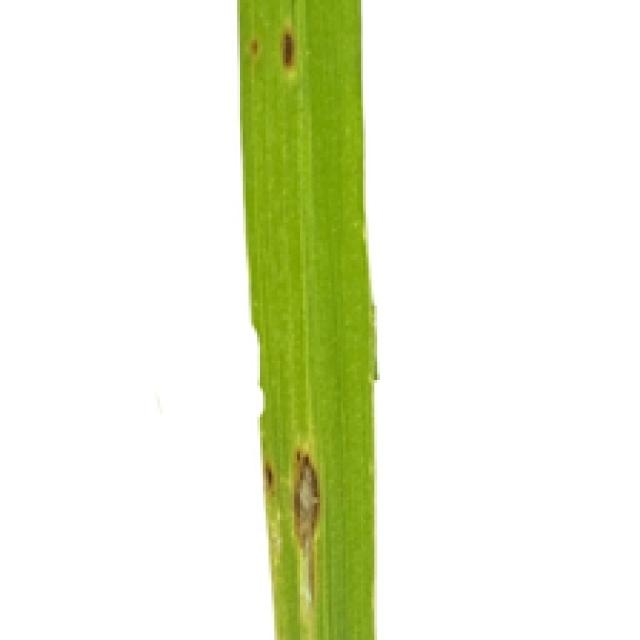Rice___Rice_Blast: (238, 0, 379, 637)
